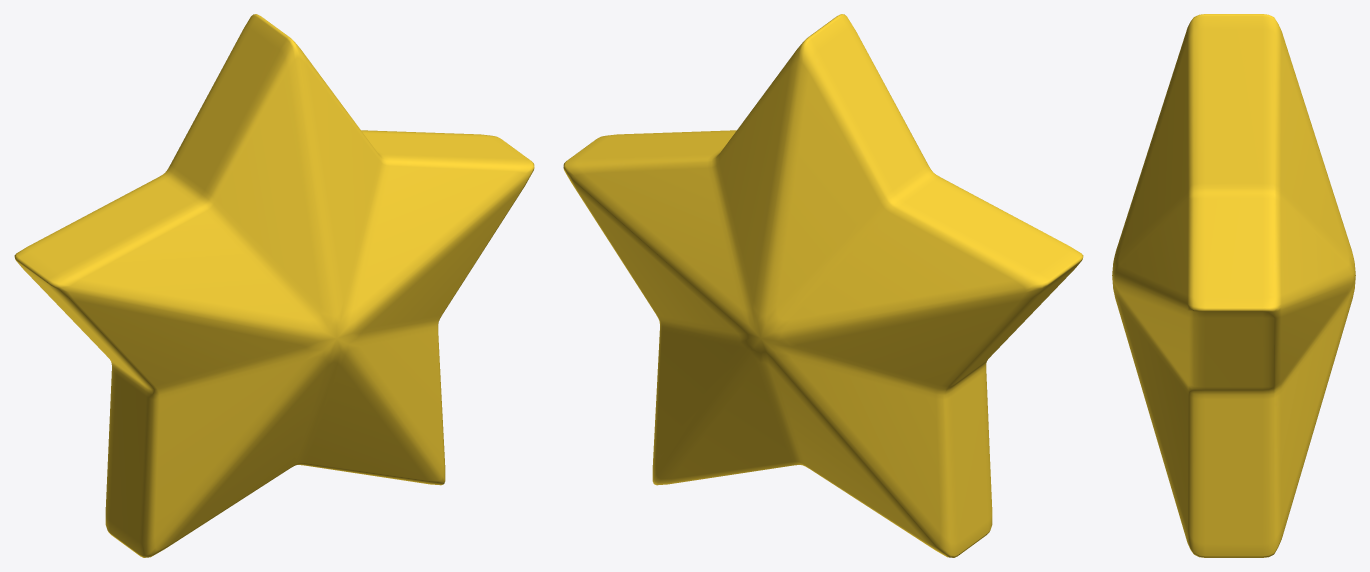
The model's file is Star.glb.
The picture shows the model from 3 angles, left to right: view 1: azimuth 30°, elevation 25°; view 2: azimuth 150°, elevation 25°; view 3: azimuth 270°, elevation 25°; orthographic projection. The views are drawn at different scales.
Visible parts, largest first — view 1: icons8_yellow_star; view 2: icons8_yellow_star; view 3: icons8_yellow_star.
Part boxes in pixels (bbox=[...]): icons8_yellow_star: bbox=[14, 14, 534, 557]; icons8_yellow_star: bbox=[563, 14, 1083, 557]; icons8_yellow_star: bbox=[1112, 14, 1355, 557].
Bounding box in the file's own units: 1.46 × 1.39 × 0.6476.
1 material, 1 textured.
